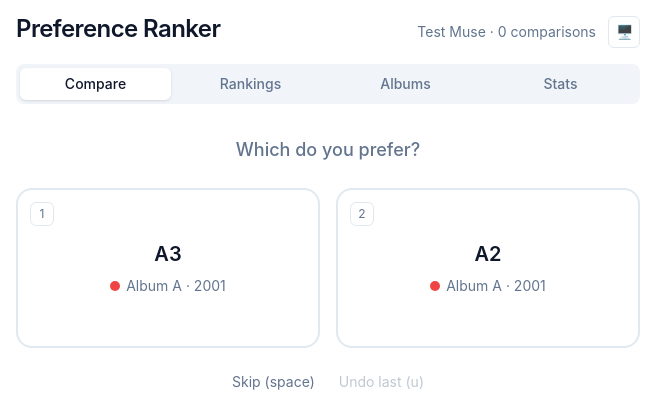
Test: App › undoes the last choice
Click the button with aria-label "choose " at (168, 268), box top-left (16, 188), bottom-right (320, 348)
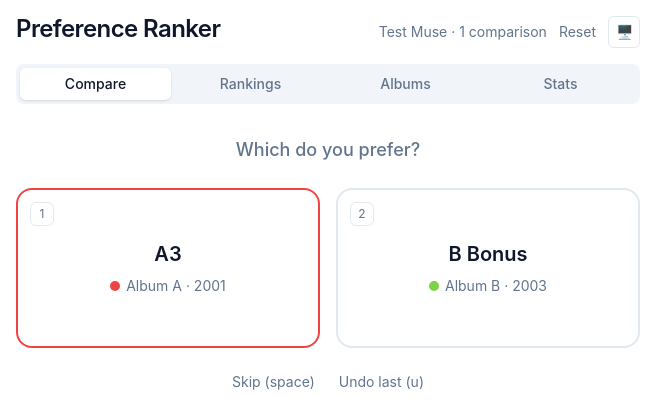
Expected: the text "Test Muse · 1 comparison" is shown, top-left (379, 22), bottom-right (547, 42)
Click the button "Undo last (u)" at (381, 382), box top-left (339, 372), bottom-right (424, 392)
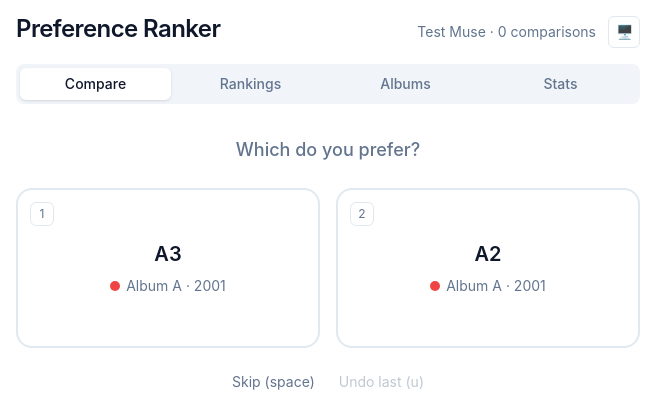
Expected: the text "Test Muse · 0 comparisons" is shown, top-left (417, 22), bottom-right (596, 42)
